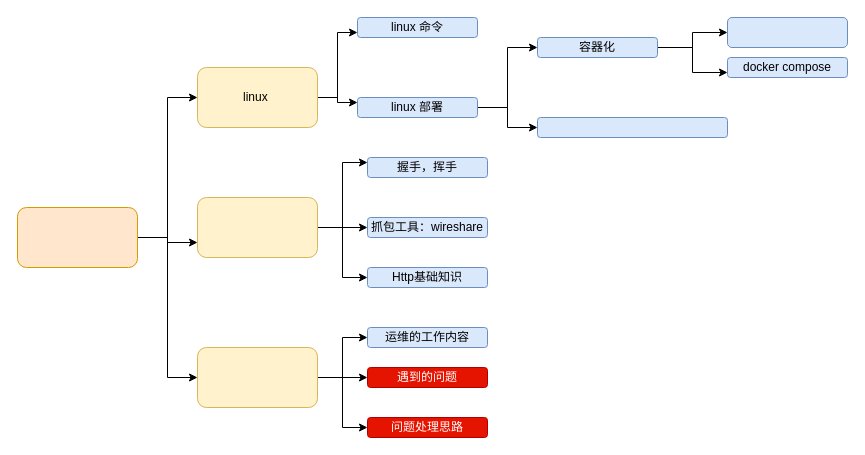
Some shapes in this 865 by 455 pixel diagram are drawn without their labels. The shapes that lost their labels are listed below. From the top down, each one's centre as x and y in pixels, then its label:
[787,32]: docker
[632,127]: 基础部署：部署jar包，部署war
[77,237]: 运维
[257,227]: 网络
[257,377]: 编一个项目经历
